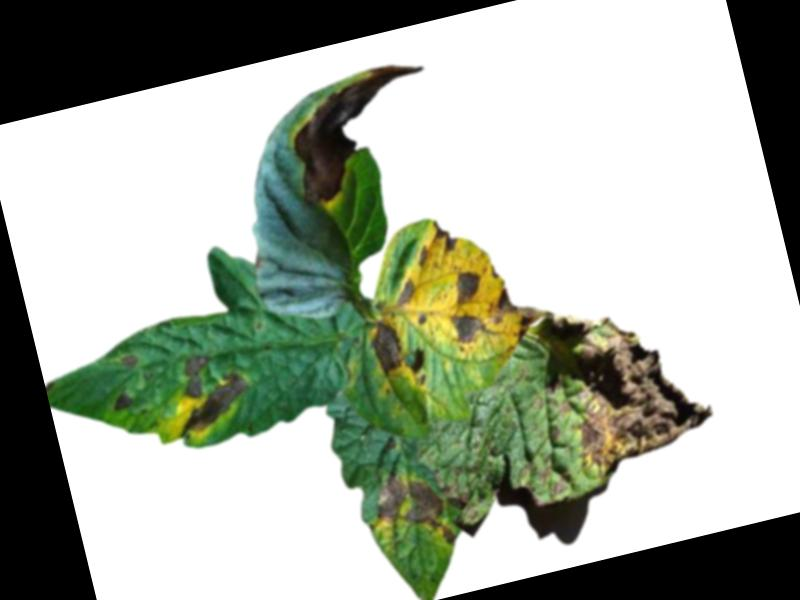Early_blight: (540, 283, 721, 482), (278, 56, 449, 206), (369, 460, 461, 564), (163, 343, 256, 437), (483, 275, 557, 350), (364, 311, 410, 377), (447, 307, 490, 353), (446, 474, 480, 529), (449, 266, 486, 305), (429, 214, 461, 256), (389, 277, 421, 306), (547, 472, 574, 498), (109, 388, 133, 412), (414, 243, 430, 264), (120, 352, 140, 368)
